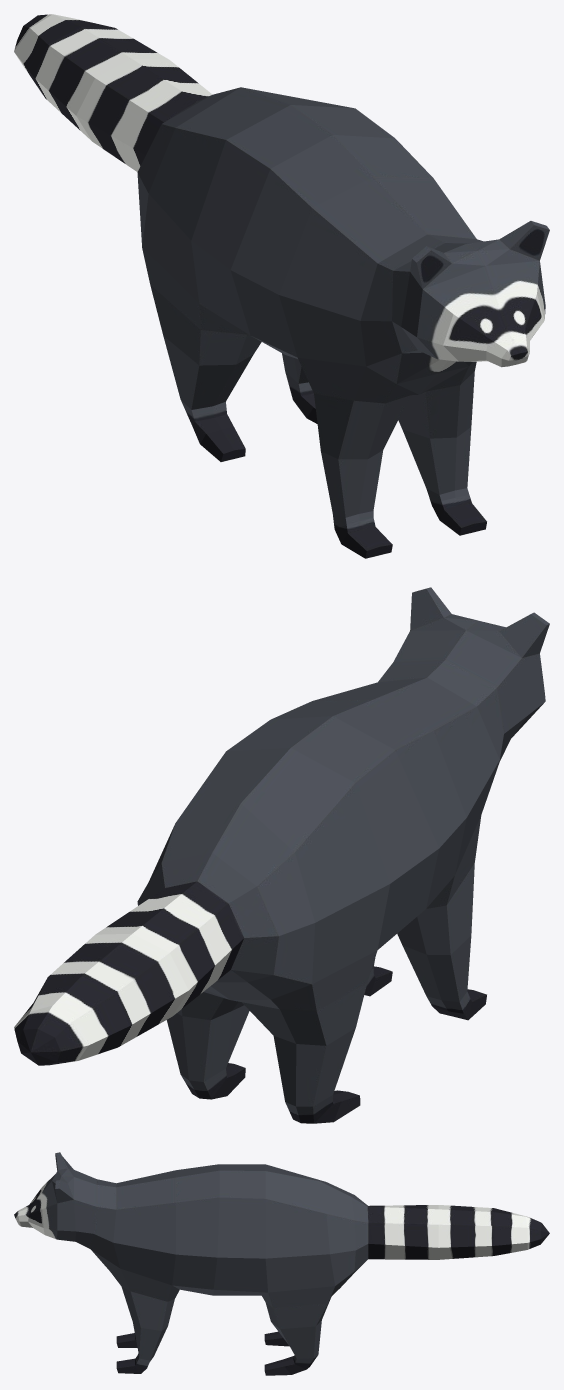
The picture shows the model from 3 angles, top to bottom: view 1: azimuth 30°, elevation 25°; view 2: azimuth 150°, elevation 25°; view 3: azimuth 270°, elevation 25°; orthographic projection. The views are drawn at different scales.
Parts seen in each view (by area): view 1: v0.2; view 2: v0.2; view 3: v0.2.
Part boxes in pixels (box(x1,y1,x2,y2)): v0.2: box(14, 14, 549, 558); v0.2: box(14, 587, 549, 1123); v0.2: box(14, 1152, 549, 1375).
Size of the model in its own units: 2.06 by 3.29 by 8.36.
Materials: 1 (1 with a texture image).
